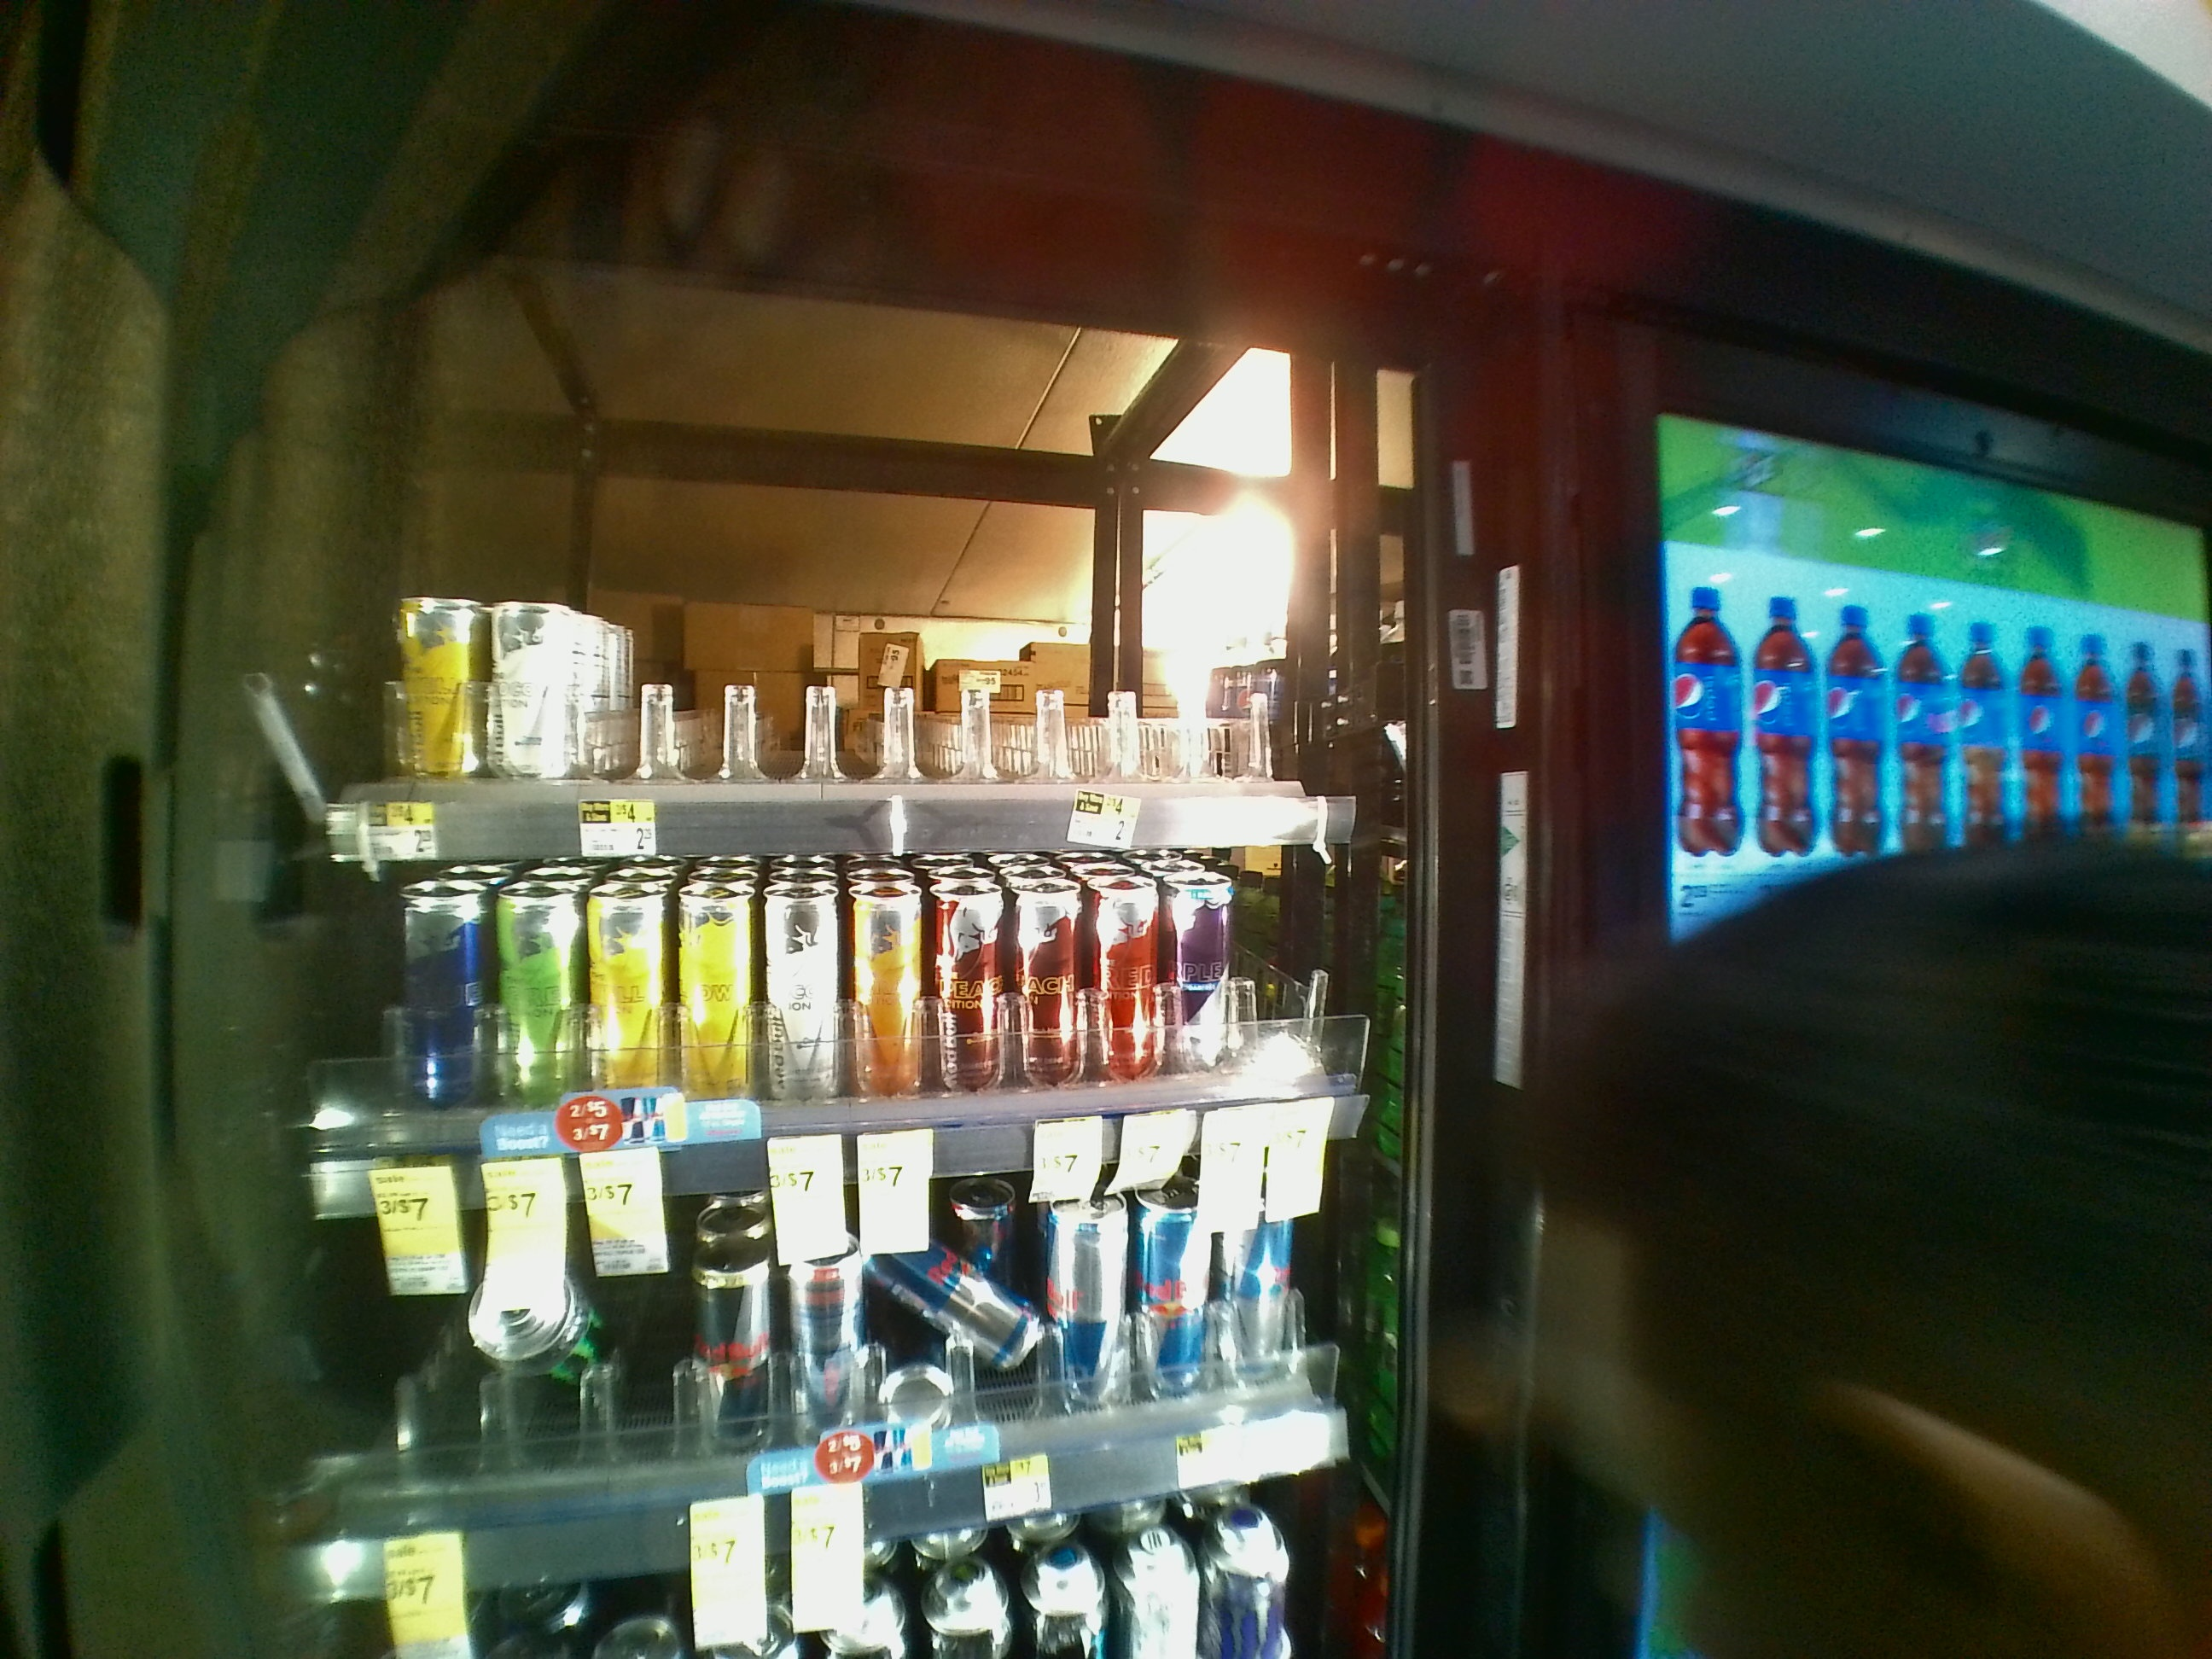shelf: (317, 279, 1425, 854), (296, 842, 1420, 1197)
